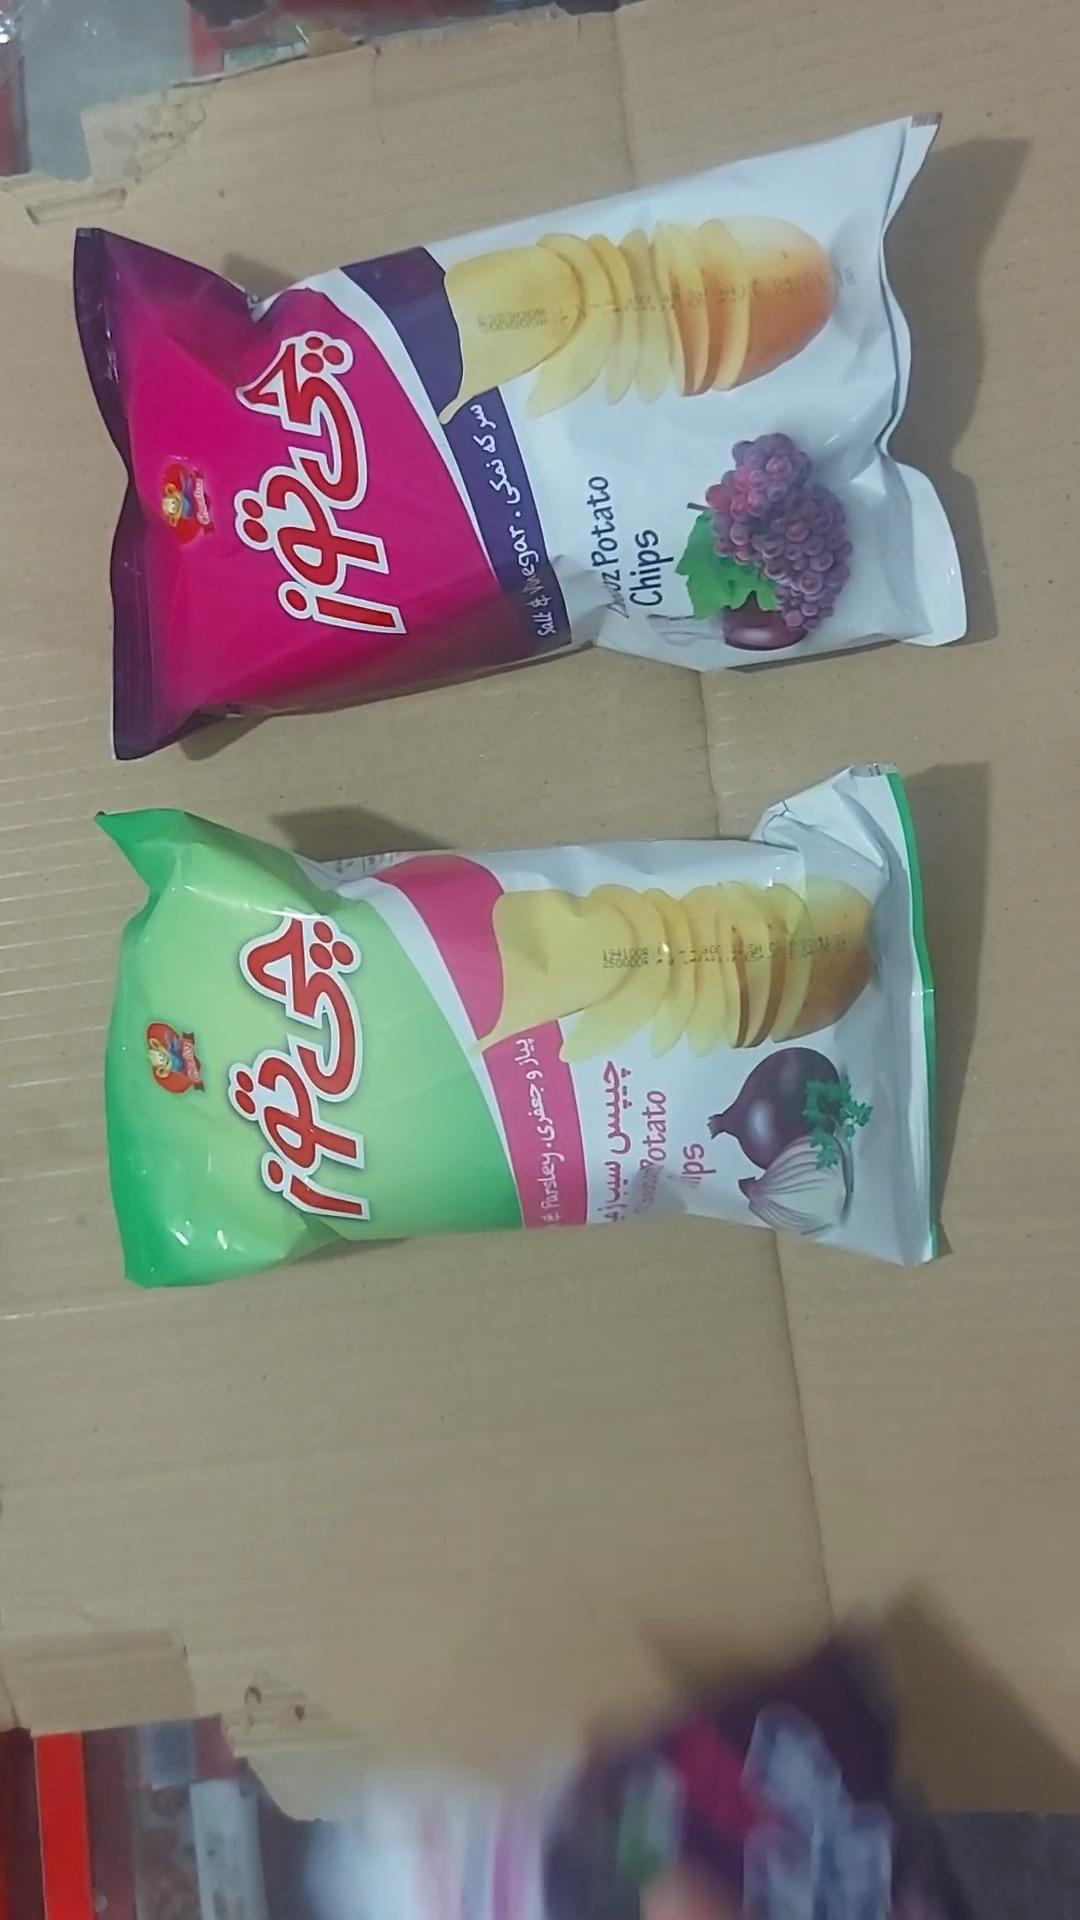Cheetoz onion and parsley chips: (103, 775, 930, 1286)
Cheetoz vinegar chips: (74, 119, 967, 760)
